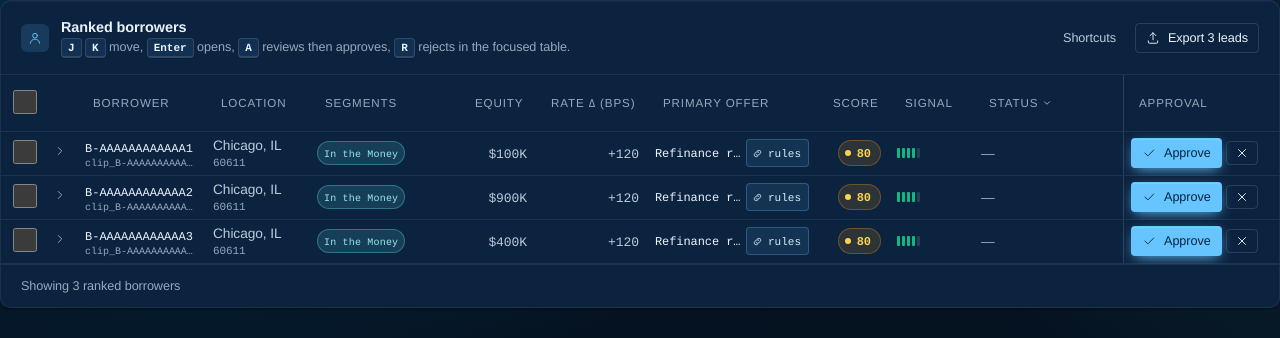
LeadTable sort-scope disclosure › keeps the claim exact when every matching row is loaded
The width and height of the screenshot is (1280, 338).
Click the button with aria-label "Sort by Equity" at (499, 103), box 475,91 -> 524,115
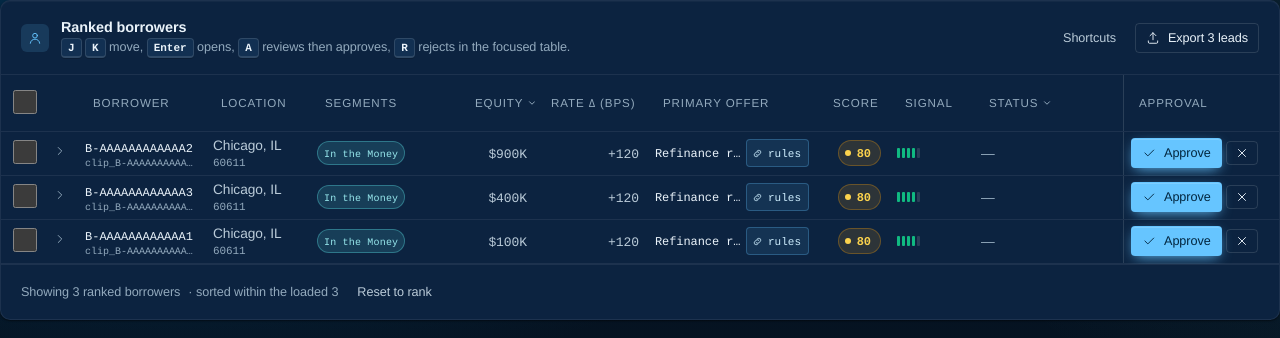
Expected: the text with test id "lead-sort-scope" shows "sorted within the loaded 3", 188,283 -> 338,301
